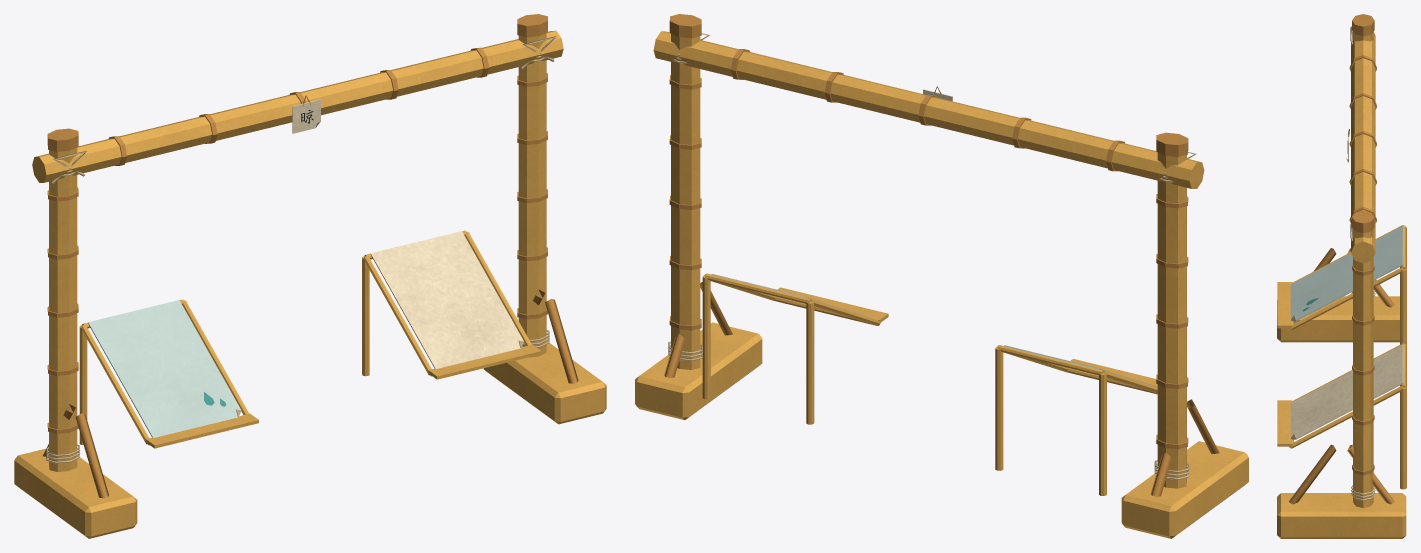
Rendered from station_dry.glb.
The picture shows the model from 3 angles, left to right: view 1: azimuth 30°, elevation 25°; view 2: azimuth 150°, elevation 25°; view 3: azimuth 270°, elevation 25°; orthographic projection. The views are drawn at different scales.
Visible parts, largest first — view 1: station_dry__crossbar, v01_dry_B_dry__paper_dry__paper_body, v01_dry_A_wet__paper_wet__paper_body, station_dry__upright, station_dry__upright.001, station_dry__foot, station_dry__foot.001, station_dry, station_dry__receiving_bar_A, station_dry__receiving_bar_B, station_dry__rack_foot_brace, station_dry__rack_foot_brace.002 (+5 smaller); view 2: station_dry__crossbar, station_dry__upright.001, station_dry__upright, station_dry__foot, station_dry__foot.001, station_dry, station_dry__low_dry_support_B_-1, station_dry__low_dry_support_A_-1; view 3: station_dry__foot.001, station_dry__upright.001, station_dry__crossbar, v01_dry_B_dry__paper_dry__paper_body, v01_dry_A_wet__paper_wet__paper_body, station_dry__foot, station_dry, station_dry__receiving_bar_A, station_dry__receiving_bar_B, station_dry__rack_foot_brace.002, station_dry__post_cap.001, station_dry__post_cap (+3 smaller).
Part boxes in pixels (x1=…): station_dry__crossbar: x1=32, y1=30, x2=563, y2=182; v01_dry_B_dry__paper_dry__paper_body: x1=370, y1=231, x2=523, y2=368; v01_dry_A_wet__paper_wet__paper_body: x1=88, y1=300, x2=240, y2=437; station_dry__upright: x1=49, y1=147, x2=77, y2=471; station_dry__upright.001: x1=518, y1=33, x2=546, y2=357; station_dry__foot: x1=14, y1=448, x2=137, y2=538; station_dry__foot.001: x1=483, y1=341, x2=606, y2=424; station_dry: x1=182, y1=231, x2=531, y2=414; station_dry__receiving_bar_A: x1=145, y1=413, x2=258, y2=448; station_dry__receiving_bar_B: x1=428, y1=344, x2=541, y2=379; station_dry__rack_foot_brace: x1=75, y1=413, x2=108, y2=498; station_dry__rack_foot_brace.002: x1=545, y1=299, x2=578, y2=383; station_dry__crossbar: x1=653, y1=31, x2=1204, y2=188; station_dry__upright.001: x1=671, y1=33, x2=700, y2=369; station_dry__upright: x1=1157, y1=152, x2=1186, y2=488; station_dry__foot: x1=1121, y1=441, x2=1248, y2=538; station_dry__foot.001: x1=635, y1=322, x2=762, y2=419; station_dry: x1=702, y1=273, x2=1068, y2=470; station_dry__low_dry_support_B_-1: x1=806, y1=301, x2=814, y2=424; station_dry__low_dry_support_A_-1: x1=1099, y1=373, x2=1106, y2=495; station_dry__foot.001: x1=1277, y1=493, x2=1406, y2=538; station_dry__upright.001: x1=1353, y1=228, x2=1373, y2=507; station_dry__crossbar: x1=1351, y1=32, x2=1375, y2=263; v01_dry_B_dry__paper_dry__paper_body: x1=1290, y1=344, x2=1403, y2=439; v01_dry_A_wet__paper_wet__paper_body: x1=1290, y1=226, x2=1403, y2=321; station_dry__foot: x1=1277, y1=296, x2=1399, y2=342; station_dry: x1=1291, y1=267, x2=1406, y2=489; station_dry__receiving_bar_A: x1=1277, y1=282, x2=1292, y2=328; station_dry__receiving_bar_B: x1=1277, y1=400, x2=1292, y2=446; station_dry__rack_foot_brace.002: x1=1289, y1=444, x2=1336, y2=504; station_dry__post_cap.001: x1=1352, y1=210, x2=1374, y2=233; station_dry__post_cap: x1=1352, y1=14, x2=1374, y2=36.
Bounding box in the file's own units: 2.4 × 1.6 × 0.6016.
11 materials, 10 textured.
